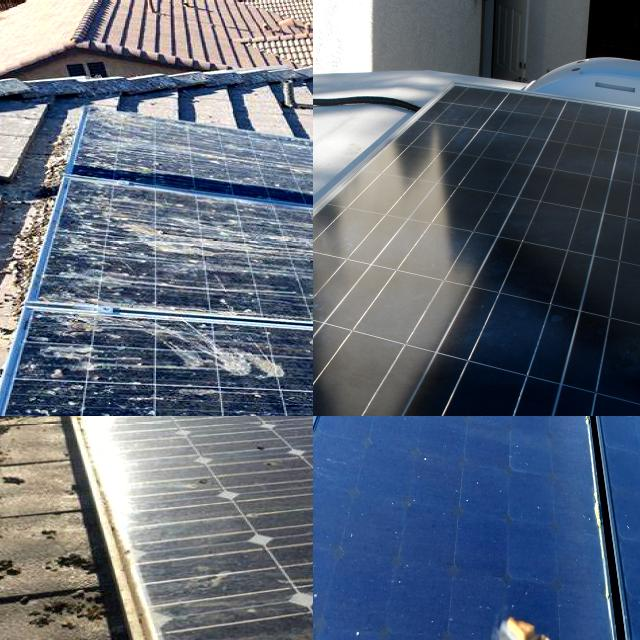bird: (78, 197, 234, 252), (159, 338, 274, 388), (238, 424, 303, 482), (38, 266, 150, 298), (22, 338, 112, 368), (177, 464, 228, 506)
crack: (313, 81, 640, 416)
dust: (394, 416, 552, 583), (313, 522, 388, 640)
